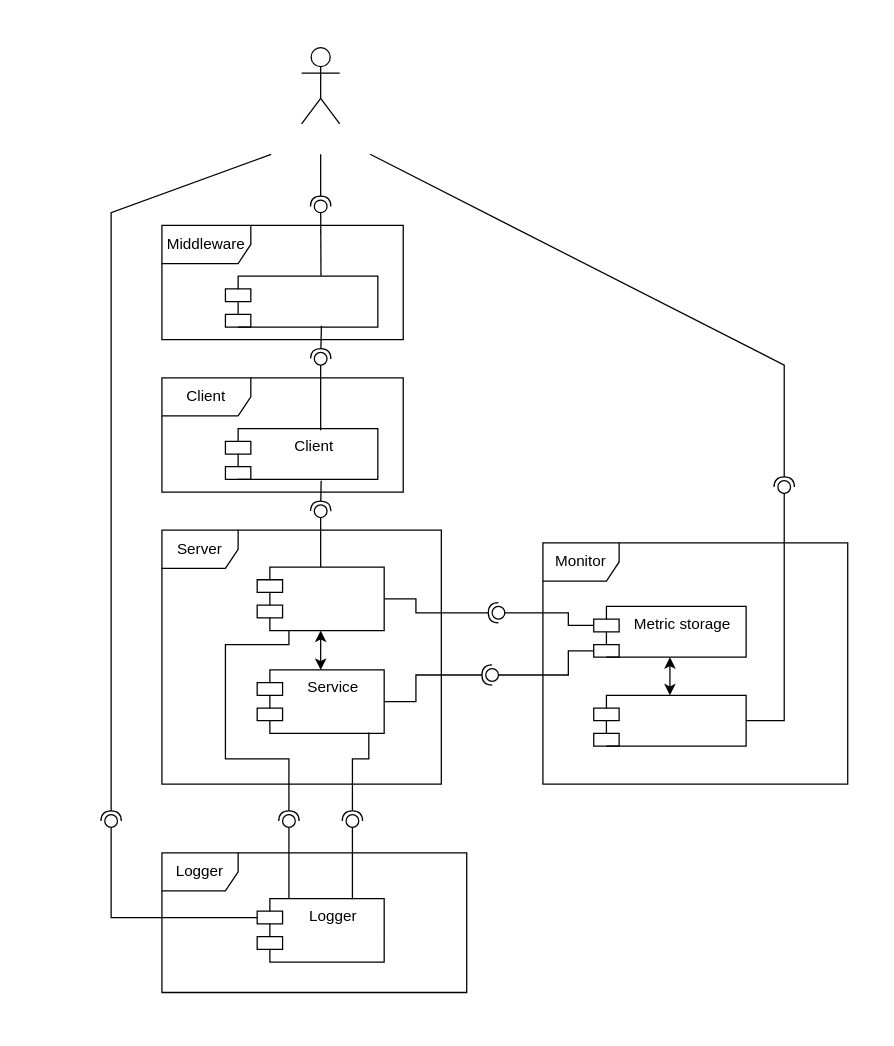
This 894x1046 diagram has some shape labels left out. Each missing label, with the centre of its shape:
"Actor" goes at (x=320, y=85).
"Interceptor" goes at (x=320, y=598).
"Interface" goes at (x=301, y=301).
"Reporter" goes at (x=669, y=720).
